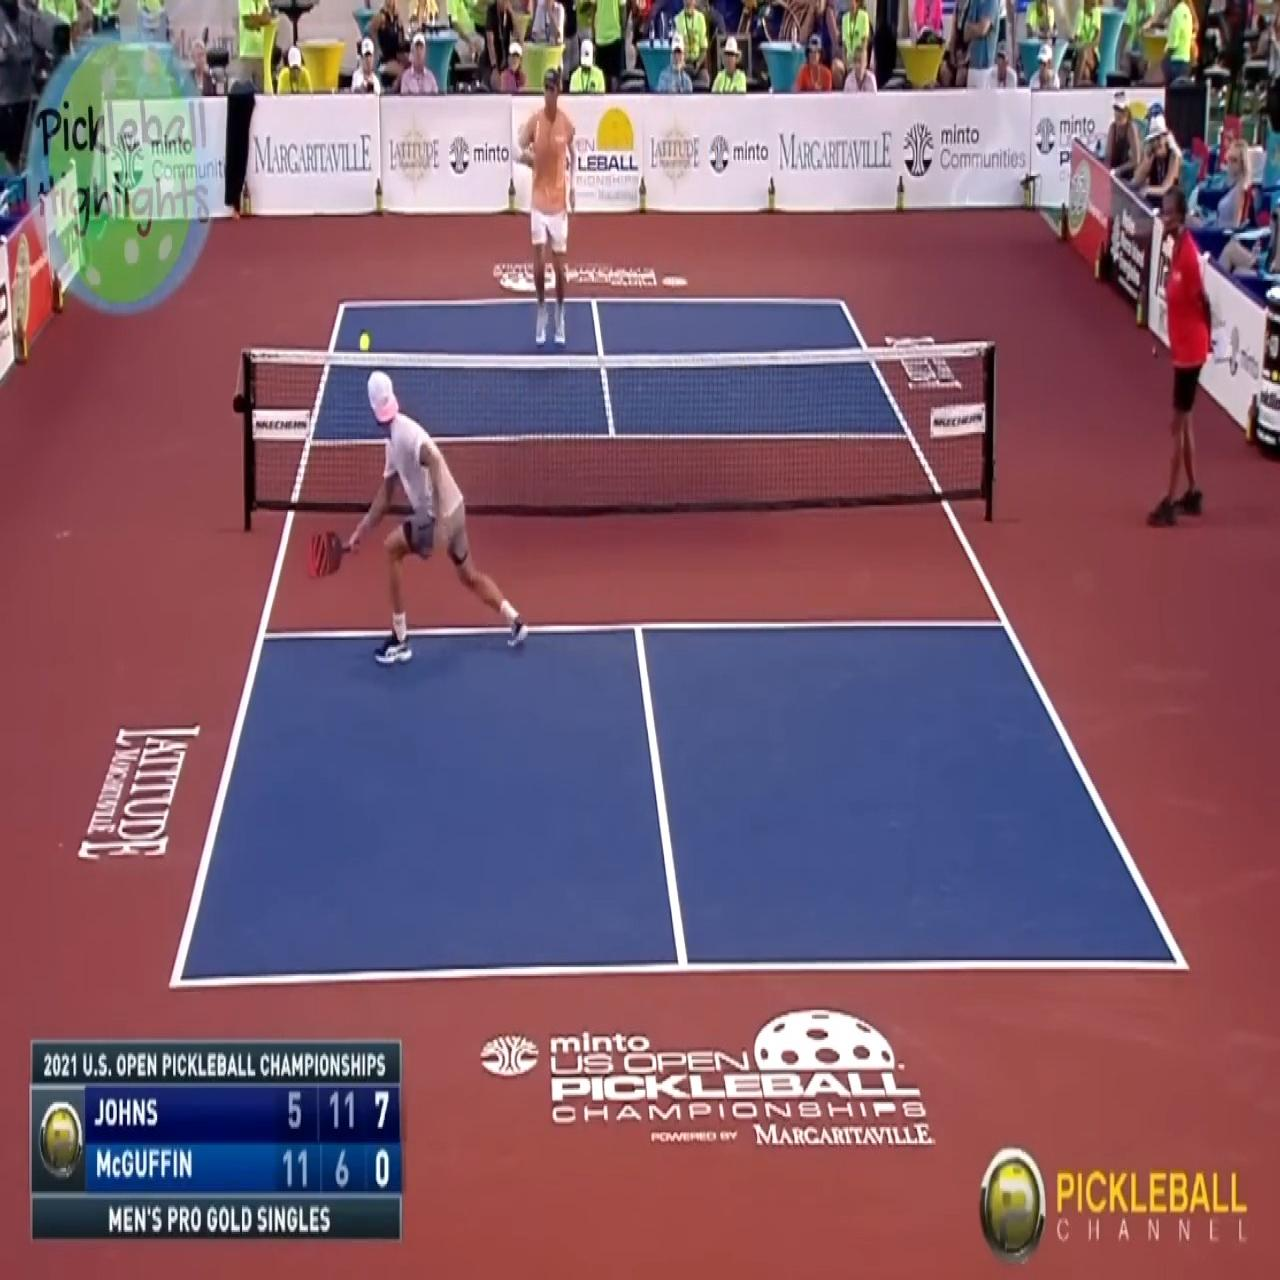pickleball: (359, 331, 370, 350)
